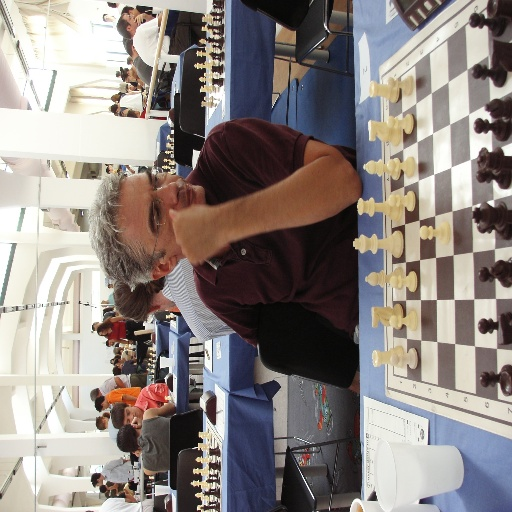hand: (183, 186, 230, 253), (130, 415, 141, 431)
